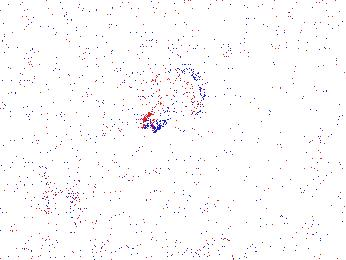flame jellyfish: (142, 63, 208, 133), (51, 156, 99, 206), (7, 162, 53, 210)
